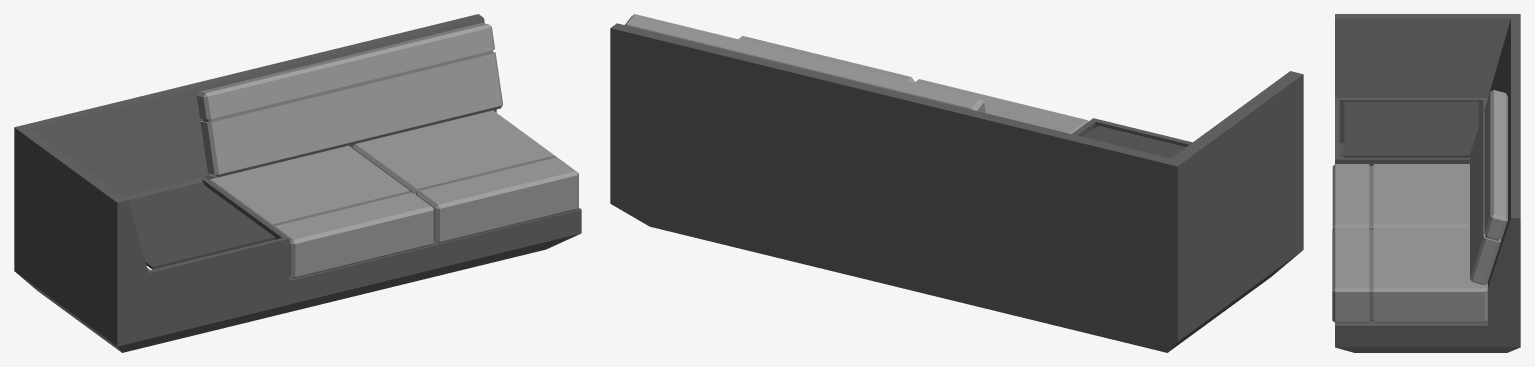
The model's file is couch_B.FBX.
3 renders of one model, left to right at view 1: azimuth 30°, elevation 25°; view 2: azimuth 150°, elevation 25°; view 3: azimuth 270°, elevation 25°, orthographic. The views are drawn at different scales.
Parts seen in each view (by area): view 1: couch_B; view 2: couch_B; view 3: couch_B.
Part boxes in pixels (left/top/right/bottom): couch_B: left=14, top=14, right=581, bottom=352; couch_B: left=610, top=14, right=1303, bottom=352; couch_B: left=1332, top=14, right=1520, bottom=352.
Bounding box in the file's own units: 120 × 40.39 × 46.75.
